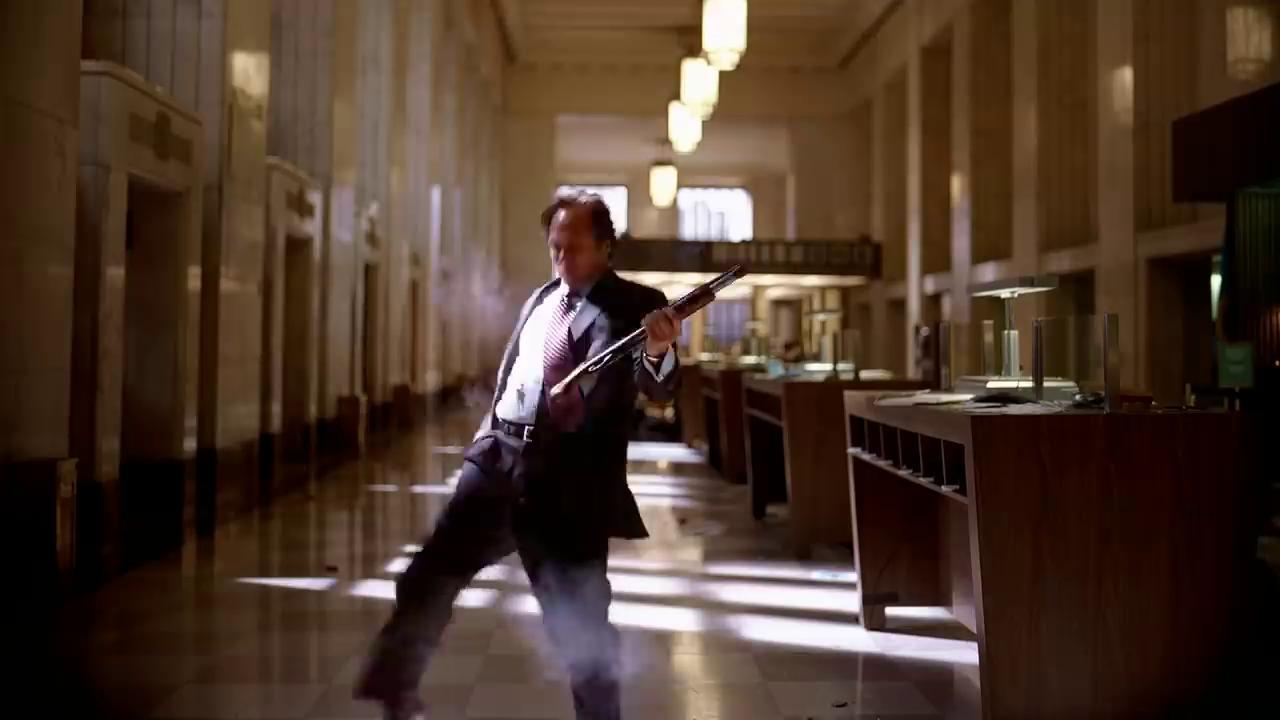gun: (529, 254, 755, 428)
